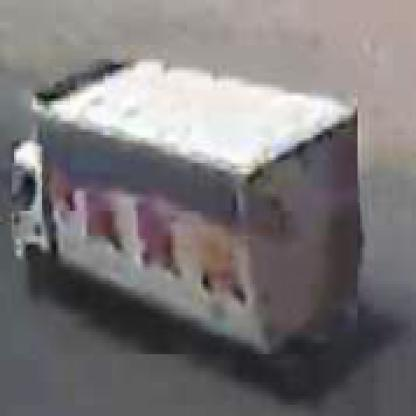truck: (13, 60, 361, 358)
